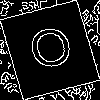O: (25, 24, 79, 79)
